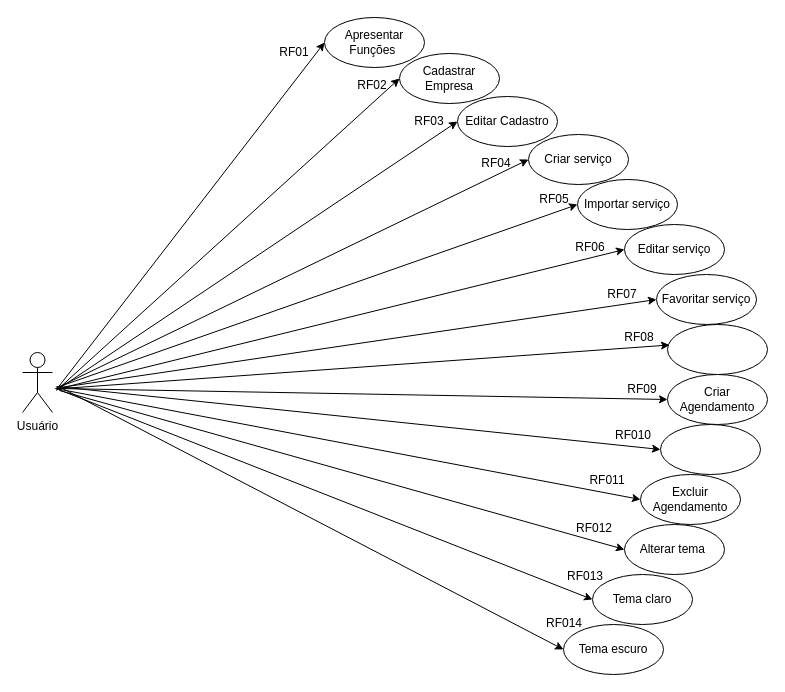
Image size: 785x692. Some labels were removed from this diagram. Here are the shapes that lost their labels. From the top down, the centre of each, then its label:
At (x=717, y=349): "Excluir serviço".
At (x=710, y=449): "Editar Agendamento".
